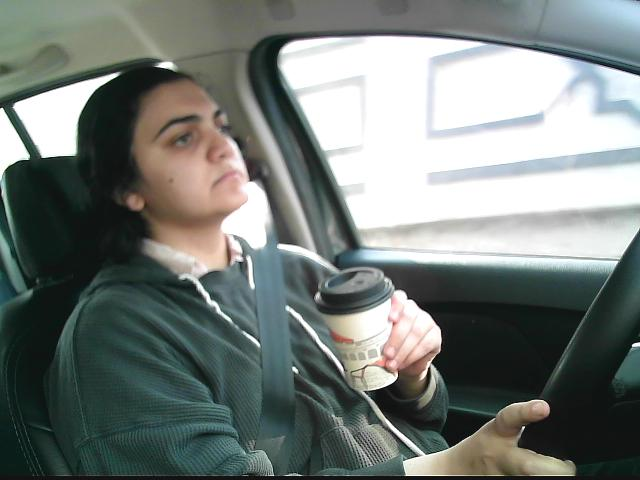Drinking: (311, 263, 406, 396)
